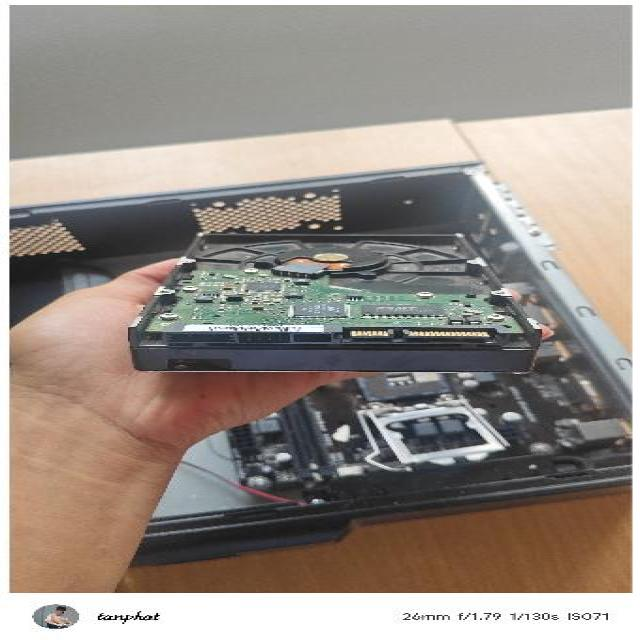DISK: (118, 225, 541, 377)
